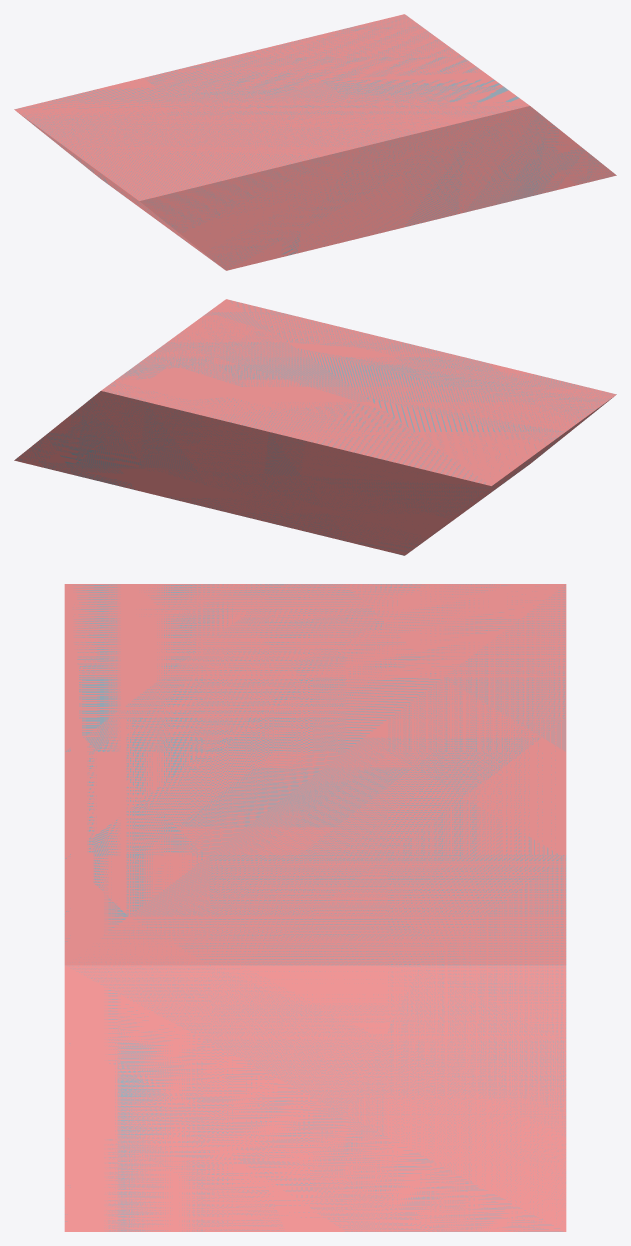
File: eraser.fbx
3 views of the same model, one above another, from view 1: azimuth 30°, elevation 25°; view 2: azimuth 150°, elevation 25°; view 3: azimuth 270°, elevation 25° (orthographic). The views are drawn at different scales.
Parts seen in each view (by area): view 1: Model; view 2: Model; view 3: Model.
Part boxes in pixels (bbox=[...]): Model: bbox=[14, 14, 616, 270]; Model: bbox=[14, 299, 616, 555]; Model: bbox=[64, 584, 566, 1231].
Size of the model in its own units: 0.11 by 0.02 by 0.05.
